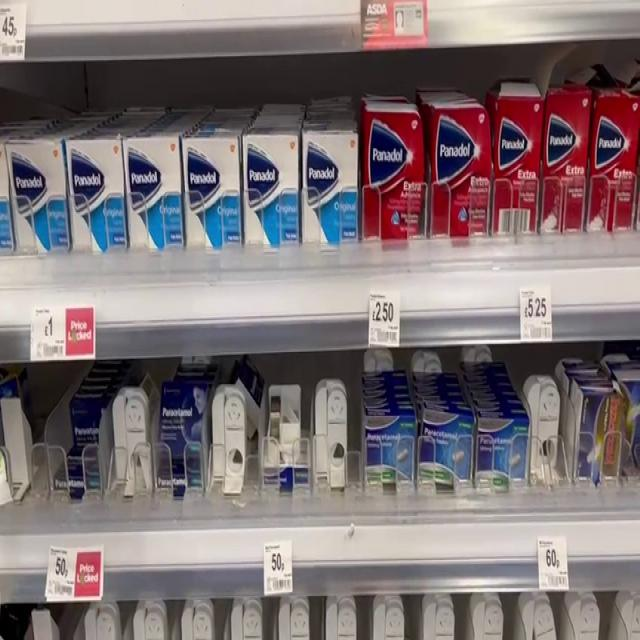Other: (360, 105, 432, 248), (113, 123, 192, 252), (429, 95, 491, 258), (489, 80, 544, 252), (60, 127, 131, 255), (176, 127, 247, 253), (238, 122, 305, 252), (0, 135, 75, 248), (539, 67, 587, 242), (296, 132, 369, 247), (151, 373, 214, 502), (590, 88, 638, 240), (357, 407, 424, 500), (569, 383, 626, 480), (472, 415, 538, 492), (418, 412, 482, 487), (57, 387, 101, 490)
